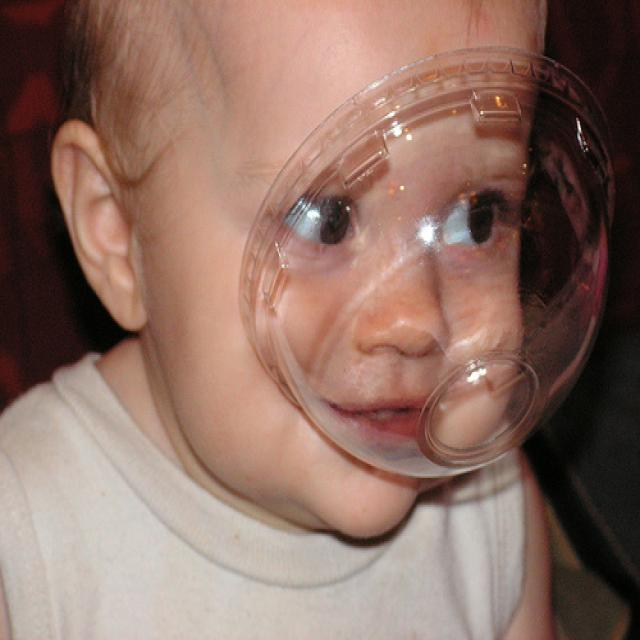person: (1, 1, 556, 639)
